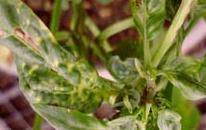Tomato leaf mosaic virus: (0, 0, 110, 116), (157, 51, 206, 100), (130, 0, 175, 40)
